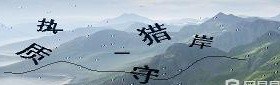chinese: (17, 38, 48, 67), (138, 23, 172, 46), (129, 61, 160, 83), (190, 34, 220, 55), (34, 14, 61, 35)
